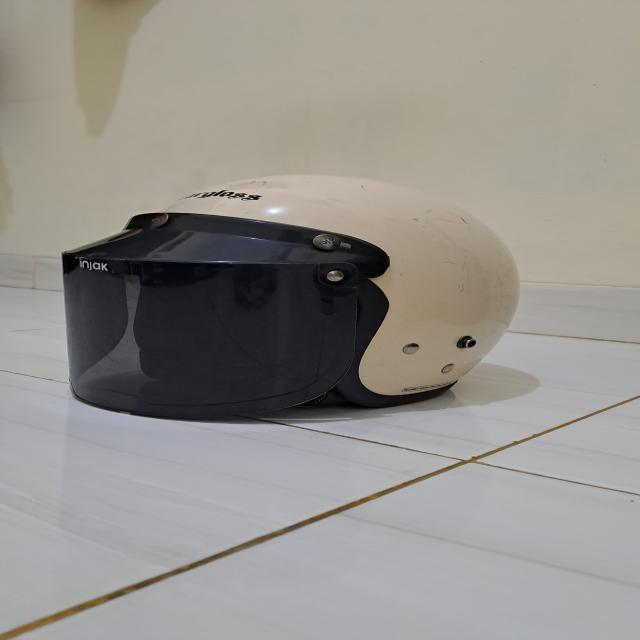Helm: (41, 164, 518, 430)
